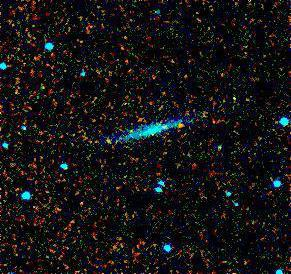star: (167, 106, 197, 136)
